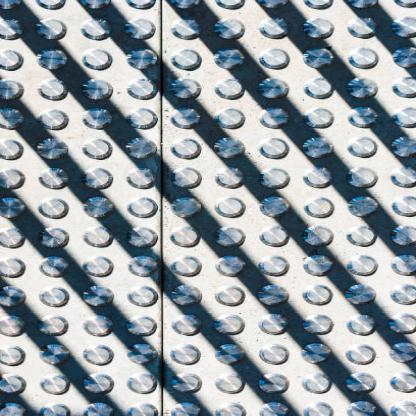podotacti: (0, 0, 416, 415)
